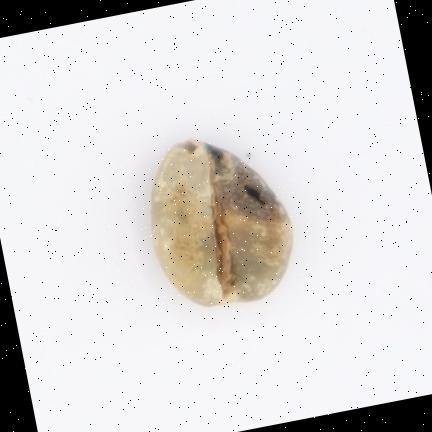partial-black: (152, 139, 293, 305)
